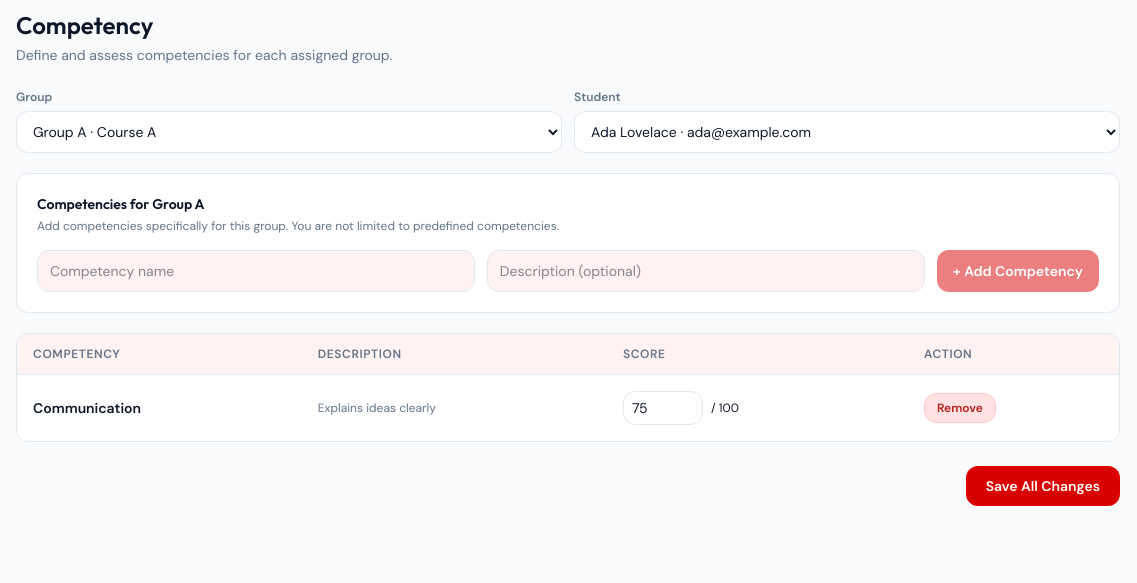
Scenario: TeacherCompetency › adds a new competency and reloads the list
This screenshot has width=1137, height=583.
Type "Teamwork" into the field with placeholder "Competency name" at (256, 271), box [37,250,475,292]
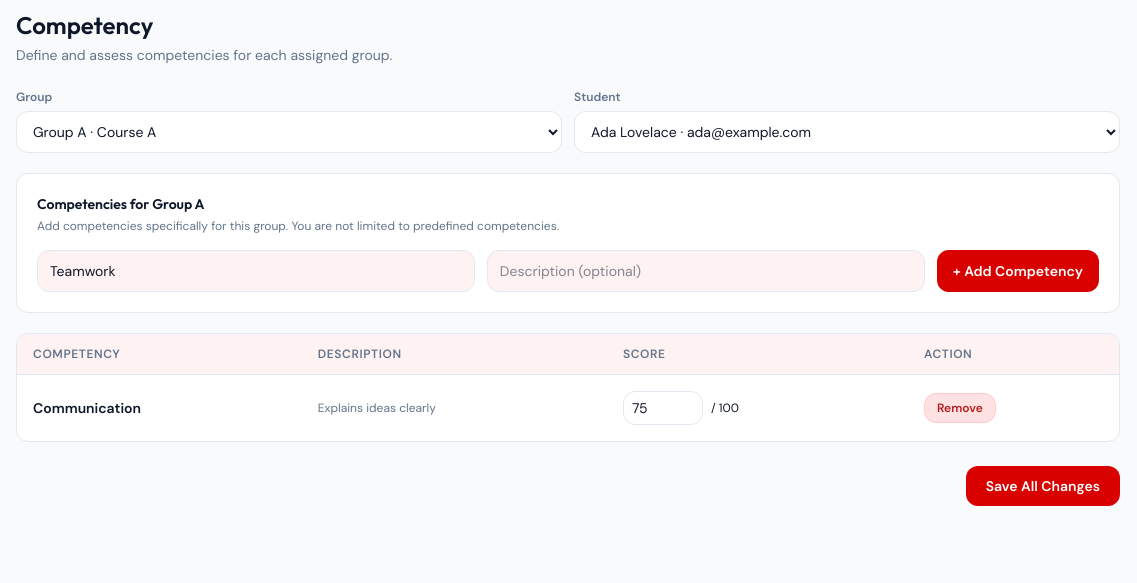
Type "Works well with others" into the field with placeholder "Description (optional)" at (706, 271), box [487,250,925,292]
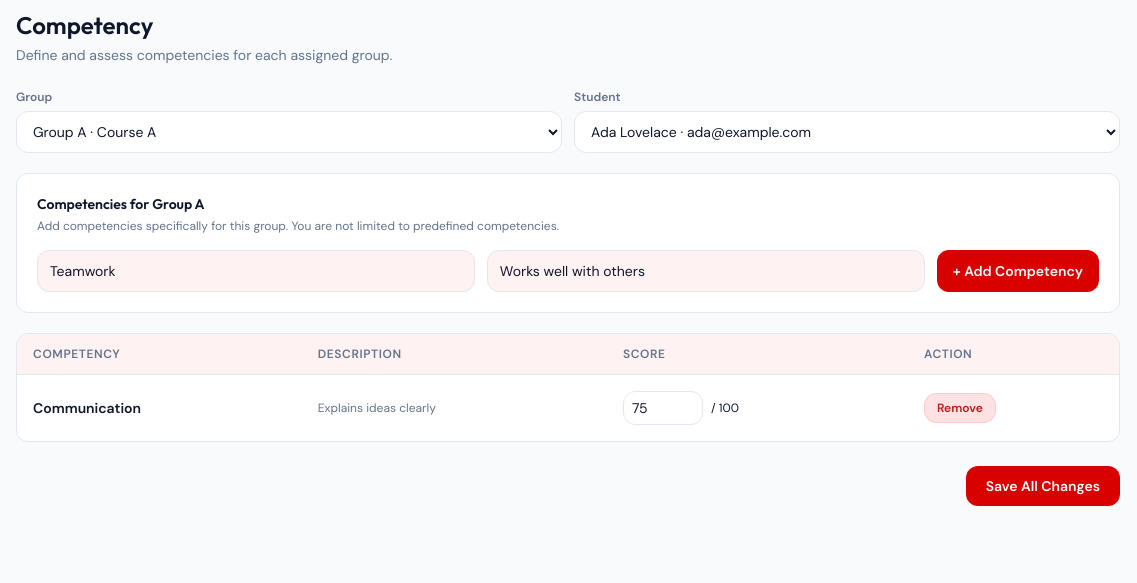
Click the button "+ Add Competency" at (1018, 271), box [937,250,1099,292]
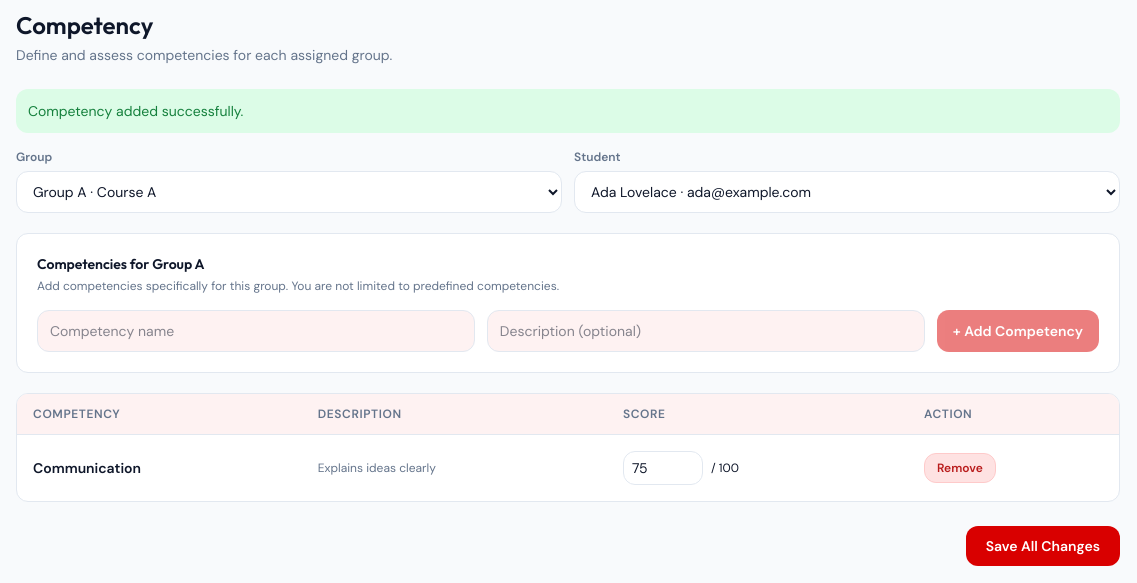
Result: the text "Competency added successfully." is shown at [16,89,1120,133]
Result: the field with placeholder "Competency name" is empty at [37,310,475,352]
